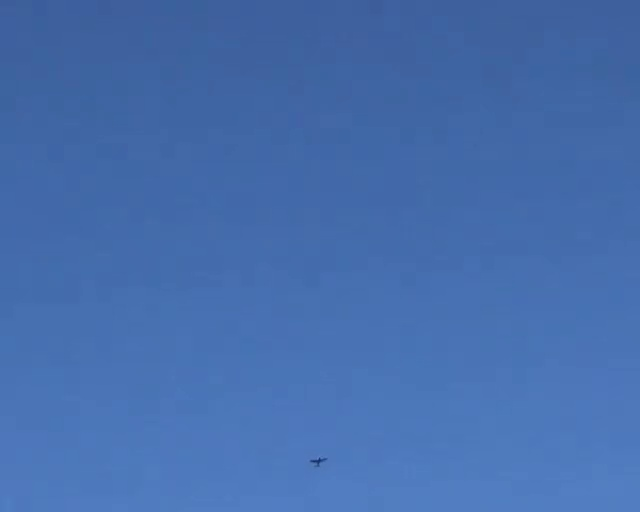AIRPLANE: (309, 456, 328, 467)
